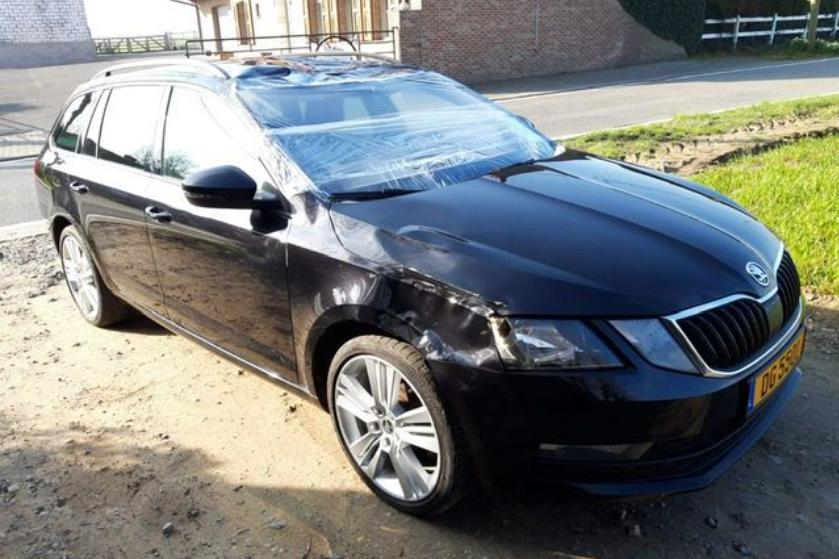Back-bumper: (34, 193, 62, 252)
Back-door: (68, 81, 169, 319)
Back-wheel: (59, 225, 132, 326)
Back-window: (99, 86, 164, 172), (53, 92, 96, 152), (85, 89, 109, 157)
Fender: (287, 191, 507, 394)
Front-bumper: (427, 296, 806, 508)
Front-door: (143, 81, 299, 385)
Front-wheel: (327, 334, 479, 518)
Front-window: (164, 87, 277, 199)
Grille: (659, 242, 802, 378)
Headlight: (487, 317, 624, 370)
Hood: (329, 148, 781, 320)
License-plate: (741, 324, 806, 422)
Mirror: (181, 165, 288, 211), (515, 115, 535, 128)
Quarter-panel: (33, 135, 119, 294)
Rocker-panel: (113, 290, 329, 413)
Roof: (74, 52, 426, 99)
Tail-light: (33, 159, 40, 177)
Windshield: (247, 76, 539, 190)
